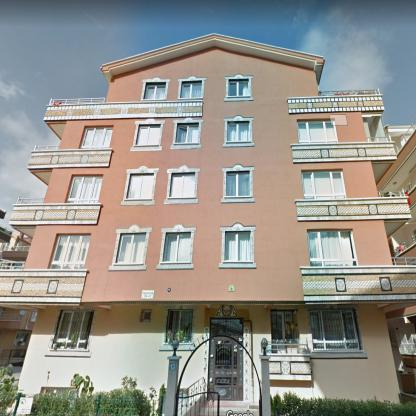door: (208, 336, 243, 399), (210, 319, 243, 344), (271, 312, 286, 354)
window: (310, 309, 358, 349), (308, 231, 358, 265), (54, 310, 94, 348), (49, 234, 90, 268), (301, 172, 346, 198), (66, 176, 103, 202), (115, 232, 146, 263), (165, 309, 192, 343), (162, 232, 192, 262), (224, 229, 251, 261), (297, 121, 337, 142), (126, 172, 154, 199), (80, 127, 112, 149), (169, 172, 196, 198), (226, 170, 250, 196), (226, 119, 250, 143), (175, 122, 199, 143), (135, 125, 161, 144), (143, 82, 166, 100), (180, 80, 202, 98), (228, 78, 248, 96), (372, 115, 387, 138), (284, 311, 294, 339), (362, 116, 371, 138), (14, 332, 29, 345), (140, 309, 151, 322), (31, 313, 36, 321)
